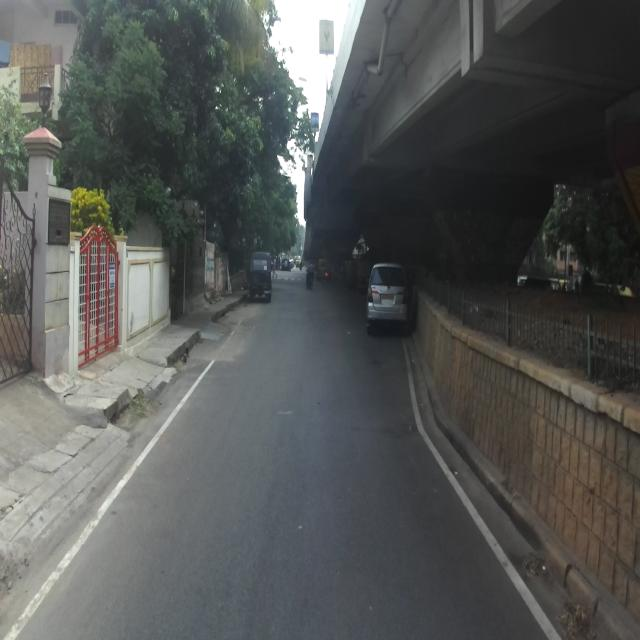car ahead at: (365, 260, 414, 328)
